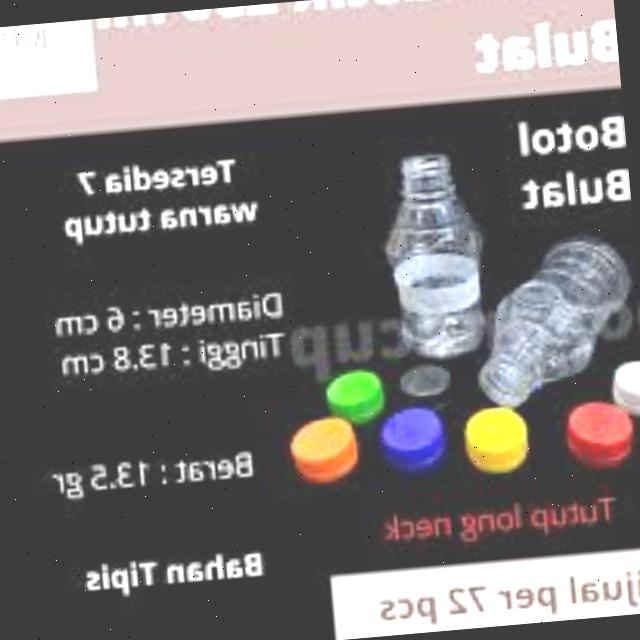trash: (462, 228, 640, 414), (372, 146, 496, 364)
